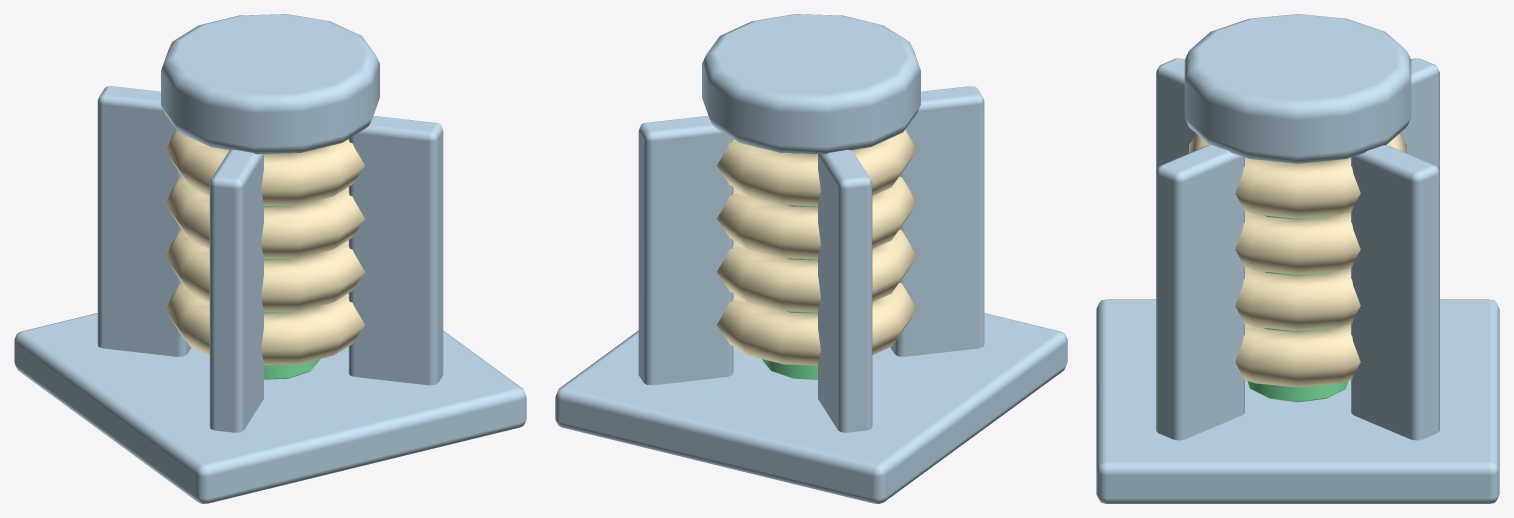
File: R4X_EnergyRegenerator.glb
3 views of the same model, side by side, from view 1: azimuth 30°, elevation 25°; view 2: azimuth 150°, elevation 25°; view 3: azimuth 270°, elevation 25° (orthographic). The views are drawn at different scales.
Visible parts, largest first — view 1: R4X_EnergyRegenerator_Body; view 2: R4X_EnergyRegenerator_Body; view 3: R4X_EnergyRegenerator_Body.
Boxes of the visible parts, x1,y1,x2,y2 form: R4X_EnergyRegenerator_Body: (14,14,526,503); R4X_EnergyRegenerator_Body: (555,14,1067,503); R4X_EnergyRegenerator_Body: (1096,14,1499,503).
Bounding box in the file's own units: 0.52 × 0.52 × 0.52.
